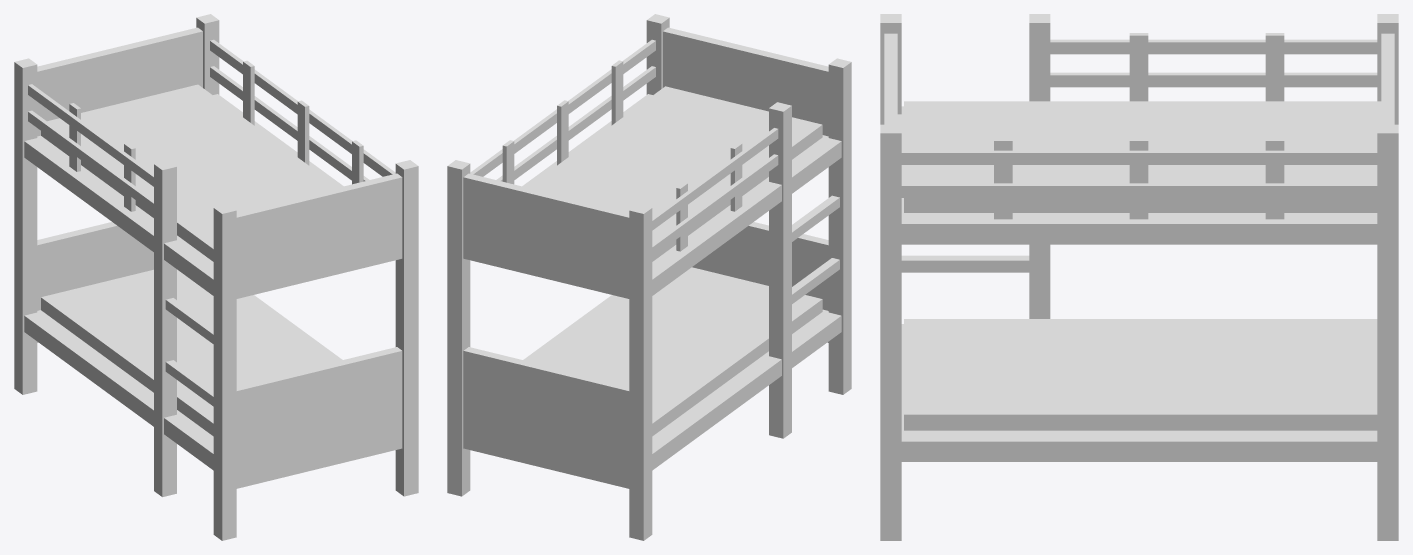
The model's file is Itr_Bed_Bunk1_04.FBX.
The picture shows the model from 3 angles, left to right: view 1: azimuth 30°, elevation 25°; view 2: azimuth 150°, elevation 25°; view 3: azimuth 270°, elevation 25°; orthographic projection. The views are drawn at different scales.
Parts seen in each view (by area): view 1: Itr_Bed_Bunk1_04; view 2: Itr_Bed_Bunk1_04; view 3: Itr_Bed_Bunk1_04.
Boxes of the visible parts, bbox=[...] form: Itr_Bed_Bunk1_04: bbox=[14, 14, 418, 540]; Itr_Bed_Bunk1_04: bbox=[447, 14, 851, 540]; Itr_Bed_Bunk1_04: bbox=[880, 14, 1398, 540].
Bounding box in the file's own units: 52.88 × 84.09 × 96.88.
